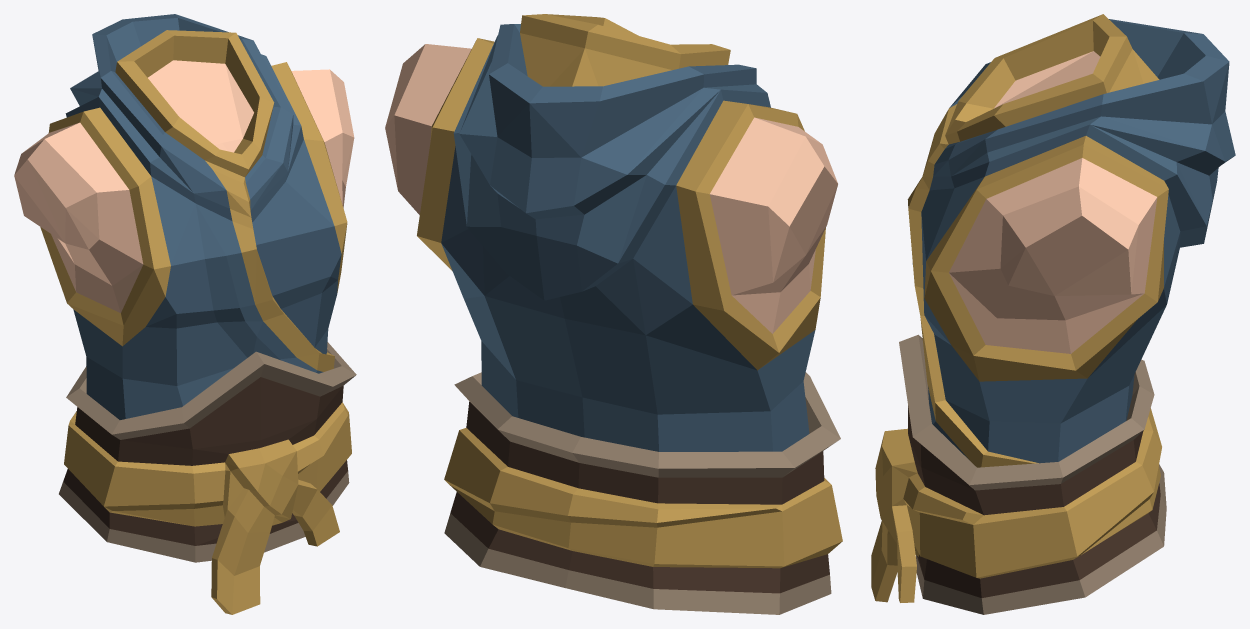
Rendered from Chr_Torso_Male_05_Static.fbx.
3 views of the same model, side by side, from view 1: azimuth 30°, elevation 25°; view 2: azimuth 150°, elevation 25°; view 3: azimuth 270°, elevation 25° (orthographic). The views are drawn at different scales.
Parts seen in each view (by area): view 1: Chr_Torso_Male_05_Static; view 2: Chr_Torso_Male_05_Static; view 3: Chr_Torso_Male_05_Static.
Boxes of the visible parts, <box> form: Chr_Torso_Male_05_Static: <box>14,14,356,614</box>; Chr_Torso_Male_05_Static: <box>385,14,842,614</box>; Chr_Torso_Male_05_Static: <box>871,14,1235,614</box>.
Bounding box in the file's own units: 0.4944 × 0.742 × 0.4234.
